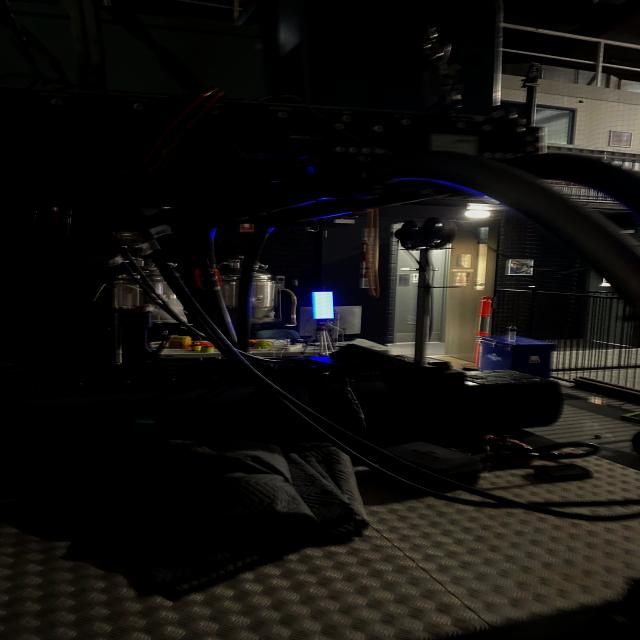matrix: (308, 290, 338, 320)
